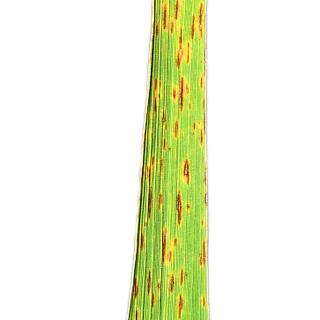Bercak-Cokelat-Sempit: (169, 75, 193, 113), (175, 26, 194, 68), (161, 226, 176, 268), (144, 268, 159, 308), (170, 192, 190, 220), (153, 1, 166, 39), (180, 161, 195, 193), (195, 5, 207, 42), (148, 77, 160, 111), (200, 241, 213, 271), (137, 229, 150, 251), (168, 119, 180, 142), (144, 185, 154, 212), (178, 295, 188, 320), (170, 3, 182, 23), (200, 187, 210, 211), (144, 154, 154, 177), (158, 158, 168, 177), (168, 272, 176, 293), (178, 269, 186, 290), (134, 277, 142, 298), (199, 73, 207, 90), (158, 194, 166, 208), (132, 309, 139, 320)
